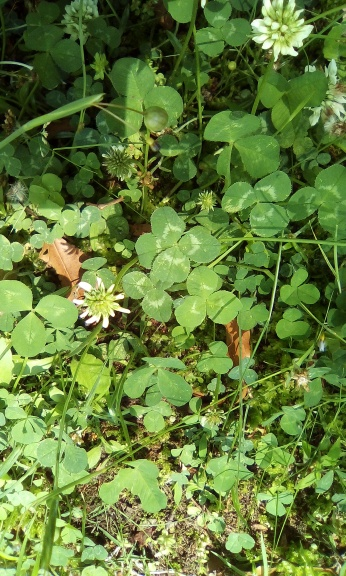4leaf: (135, 205, 223, 283)
